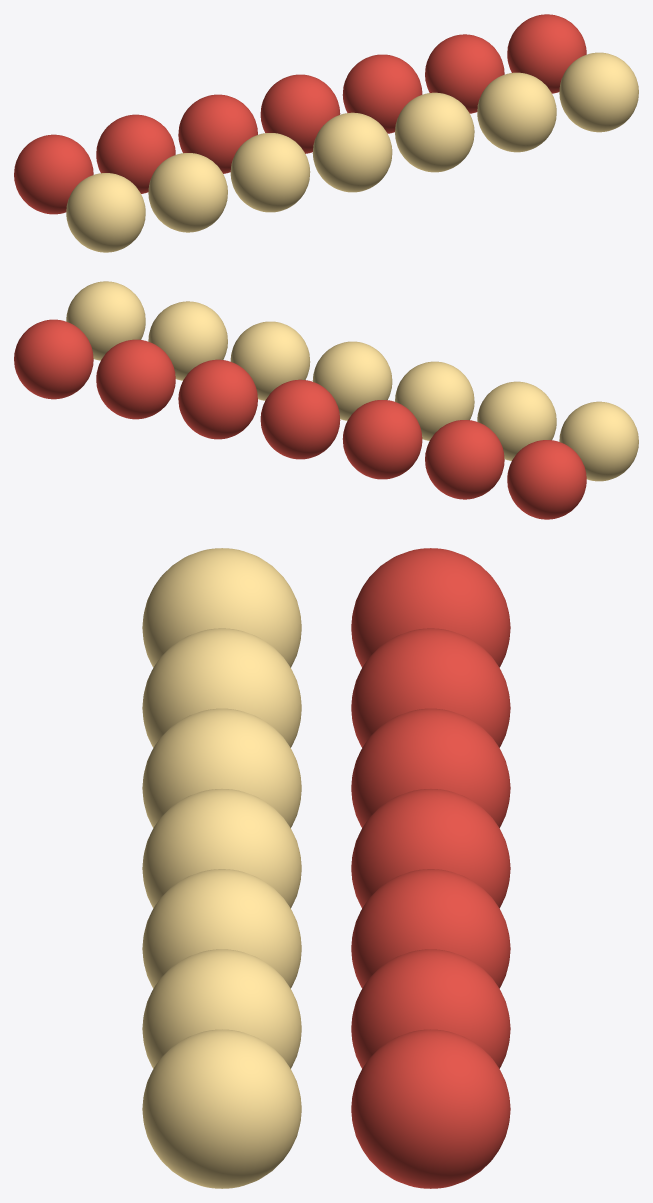
The model's file is sphere_row.glb.
3 renders of one model, top to bottom at view 1: azimuth 30°, elevation 25°; view 2: azimuth 150°, elevation 25°; view 3: azimuth 270°, elevation 25°, orthographic. The views are drawn at different scales.
Parts seen in each view (by area): view 1: metal_5, metal_6, metal_2, metal_4, metal_0, metal_3, metal_1, dielectric_0, dielectric_1, dielectric_4, dielectric_5, dielectric_6 (+2 smaller); view 2: dielectric_5, dielectric_6, dielectric_2, dielectric_4, dielectric_0, dielectric_3, dielectric_1, metal_0, metal_1, metal_4, metal_5, metal_6 (+2 smaller); view 3: dielectric_6, metal_6, dielectric_0, dielectric_2, dielectric_5, metal_0, metal_2, metal_5, dielectric_1, metal_1, dielectric_4, metal_4 (+2 smaller).
Part boxes in pixels (x1,y1,x2,y2): metal_5: (477,72,556,152); metal_6: (559,52,638,132); metal_2: (230,133,310,212); metal_4: (395,92,474,172); metal_0: (66,173,145,252); metal_3: (312,112,392,192); metal_1: (148,153,227,232); dielectric_0: (14,134,93,214); dielectric_1: (96,114,175,193); dielectric_4: (342,54,422,133); dielectric_5: (425,34,504,113); dielectric_6: (507,14,586,93); dielectric_5: (96,339,175,419); dielectric_6: (14,319,93,399); dielectric_2: (342,400,422,479); dielectric_4: (178,359,257,439); dielectric_0: (507,440,586,519); dielectric_3: (260,379,340,459); dielectric_1: (425,420,504,499); metal_0: (559,401,638,481); metal_1: (477,381,556,460); metal_4: (230,321,310,400); metal_5: (148,301,227,380); metal_6: (66,281,145,360); dielectric_6: (351,1029,510,1188); metal_6: (142,1029,301,1188); dielectric_0: (351,548,510,667); dielectric_2: (351,708,510,827); dielectric_5: (351,949,510,1068); metal_0: (142,548,301,667); metal_2: (142,708,301,827); metal_5: (142,949,301,1068); dielectric_1: (351,628,510,747); metal_1: (142,628,301,747); dielectric_4: (351,869,510,988); metal_4: (142,869,301,988).
Bounding box in the file's own units: 6.84 × 0.84 × 1.94.
